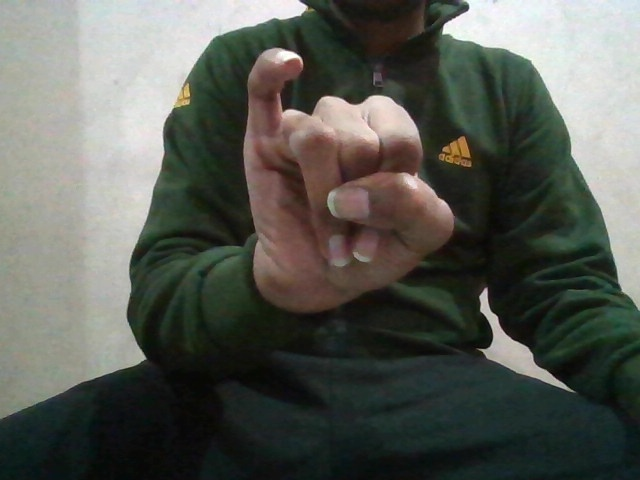J: (234, 45, 449, 297)
